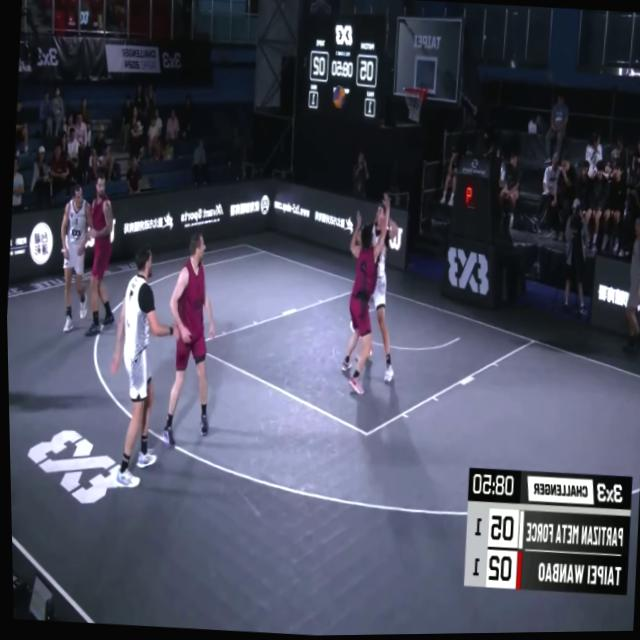ball: (330, 85, 346, 106)
hoop: (399, 84, 427, 125)
player: (100, 246, 182, 490), (158, 230, 224, 447), (334, 188, 403, 386), (331, 187, 394, 399), (78, 173, 124, 334), (50, 181, 95, 333)
